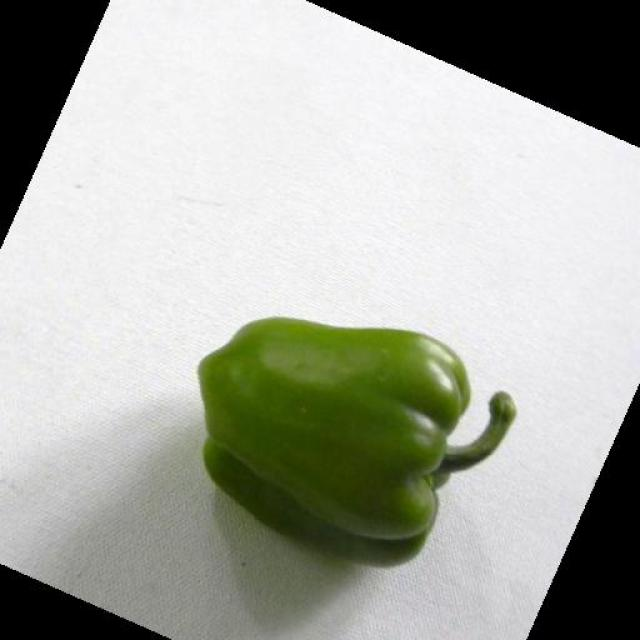Fresh_Capsicum: (213, 276, 511, 558)
